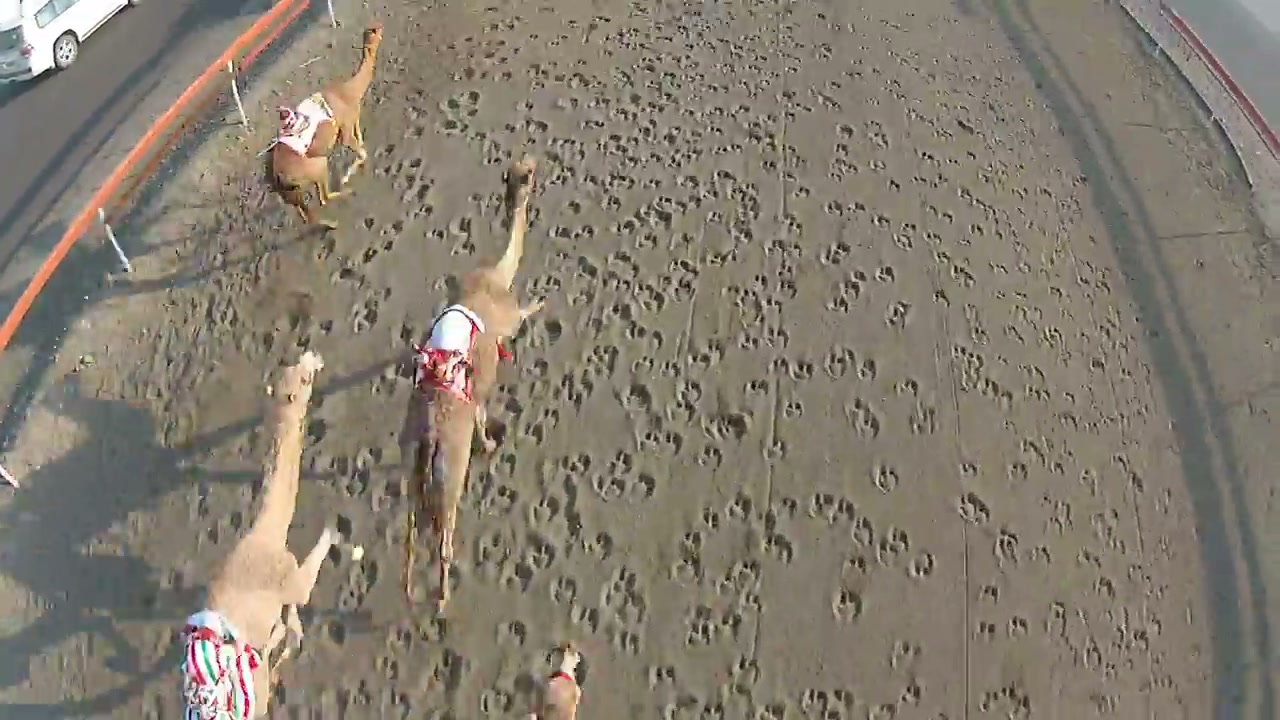animal_footprint: (60, 0, 1210, 719)
